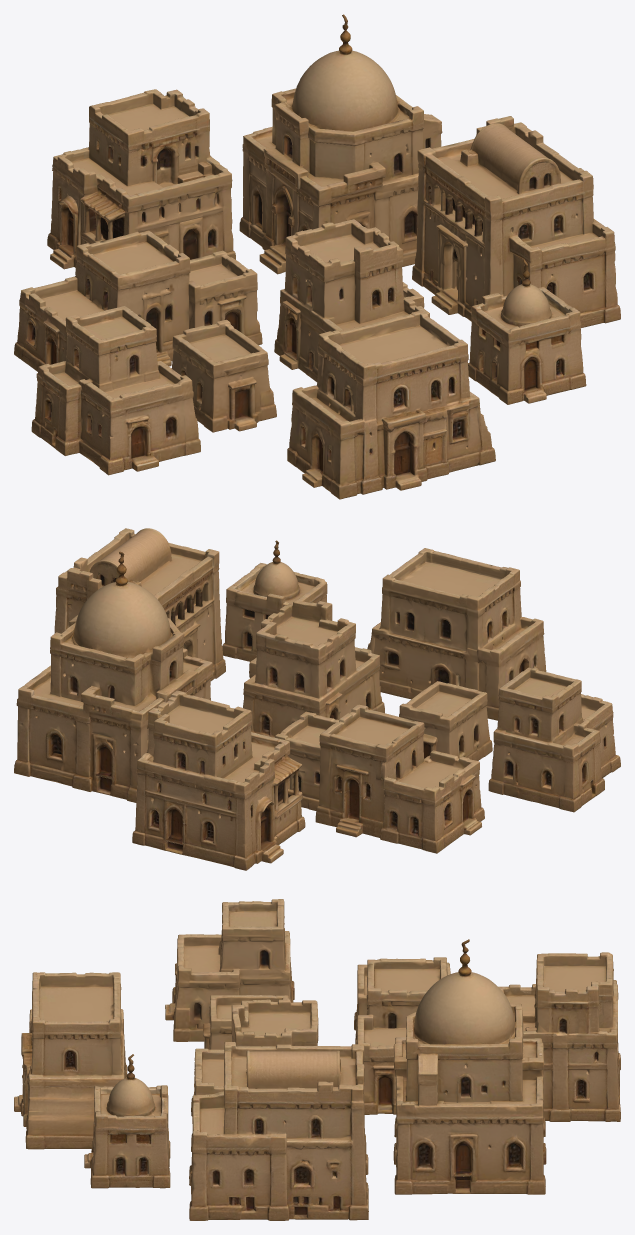
Rendered from Medieval Village (Middle Eastern).fbx.
3 views of the same model, one above another, from view 1: azimuth 30°, elevation 25°; view 2: azimuth 150°, elevation 25°; view 3: azimuth 270°, elevation 25° (orthographic). The views are drawn at different scales.
Parts seen in each view (by area): view 1: tripo_node_5f09bdf5; view 2: tripo_node_5f09bdf5; view 3: tripo_node_5f09bdf5.
Part boxes in pixels (left/top/right/bottom): tripo_node_5f09bdf5: left=14, top=14, right=620, bottom=499; tripo_node_5f09bdf5: left=14, top=528, right=620, bottom=870; tripo_node_5f09bdf5: left=14, top=899, right=620, bottom=1220.
Size of the model in its own units: 0.9738 by 0.4499 by 1.
